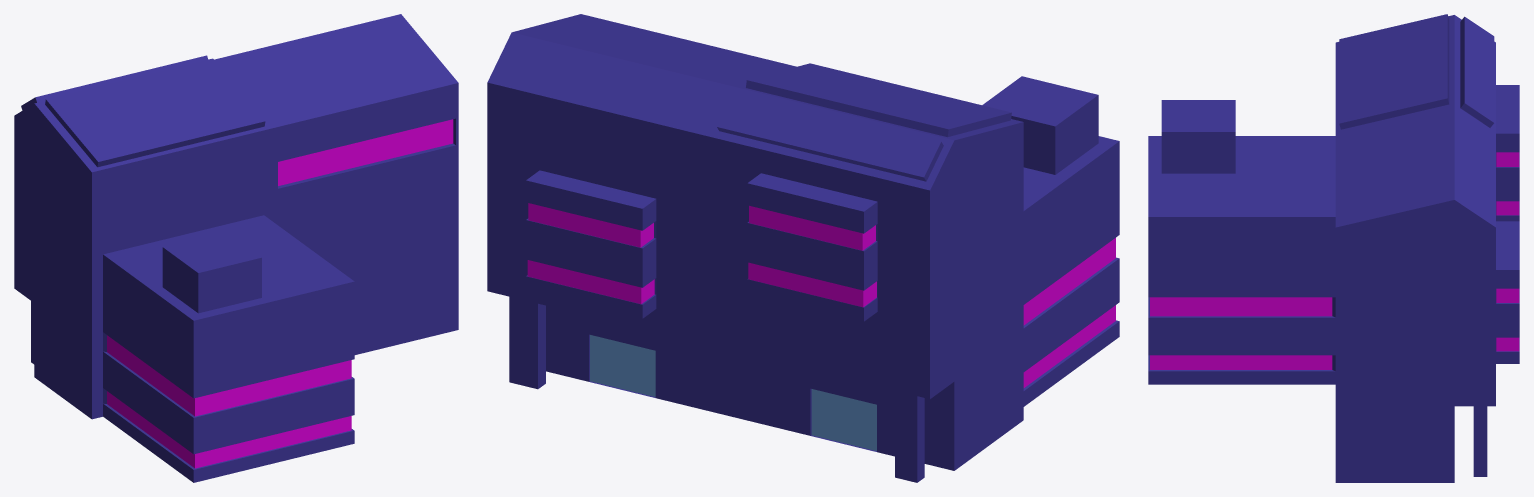
The model's file is building1.fbx.
The picture shows the model from 3 angles, left to right: view 1: azimuth 30°, elevation 25°; view 2: azimuth 150°, elevation 25°; view 3: azimuth 270°, elevation 25°; orthographic projection. The views are drawn at different scales.
Visible parts, largest first — view 1: building1; view 2: building1; view 3: building1.
Boxes of the visible parts, bbox=[...] form: building1: bbox=[14, 14, 458, 482]; building1: bbox=[487, 14, 1119, 482]; building1: bbox=[1148, 14, 1519, 482].
Bounding box in the file's own units: 119 × 86.41 × 101.
